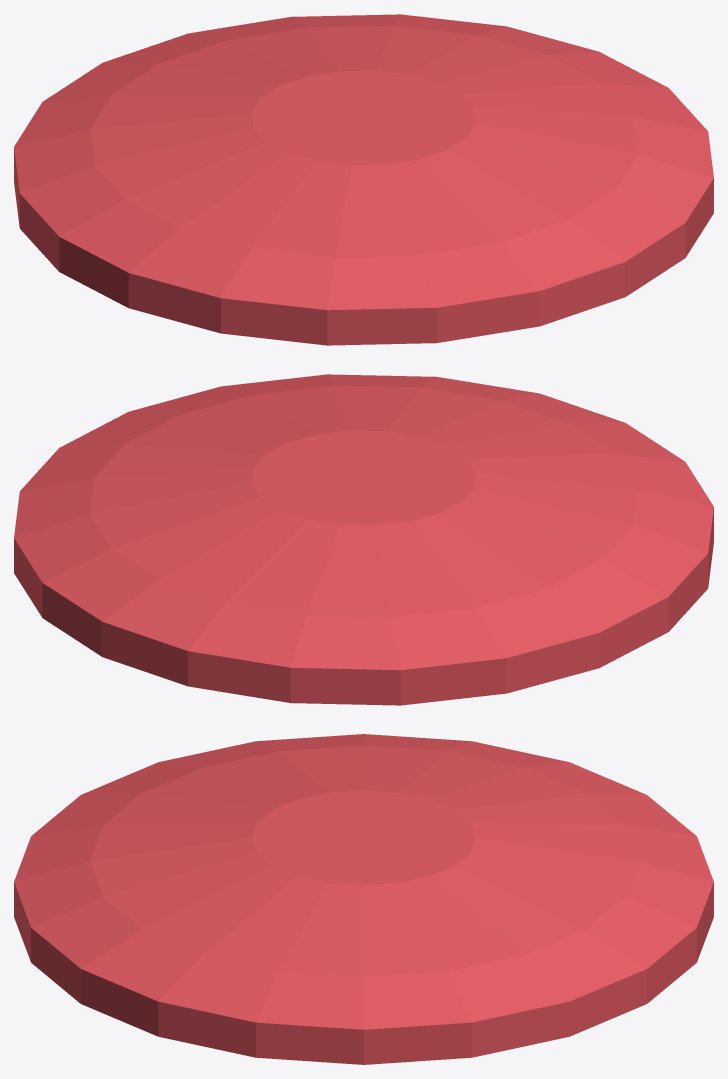
The model's file is Salami.fbx.
3 views of the same model, one above another, from view 1: azimuth 30°, elevation 25°; view 2: azimuth 150°, elevation 25°; view 3: azimuth 270°, elevation 25° (orthographic).
Parts seen in each view (by area): view 1: Cylinder.001; view 2: Cylinder.001; view 3: Cylinder.001.
Boxes of the visible parts, bbox=[...] form: Cylinder.001: bbox=[14, 14, 713, 345]; Cylinder.001: bbox=[14, 374, 713, 705]; Cylinder.001: bbox=[14, 734, 713, 1064].
Size of the model in its own units: 8.87 by 1.11 by 8.87.
